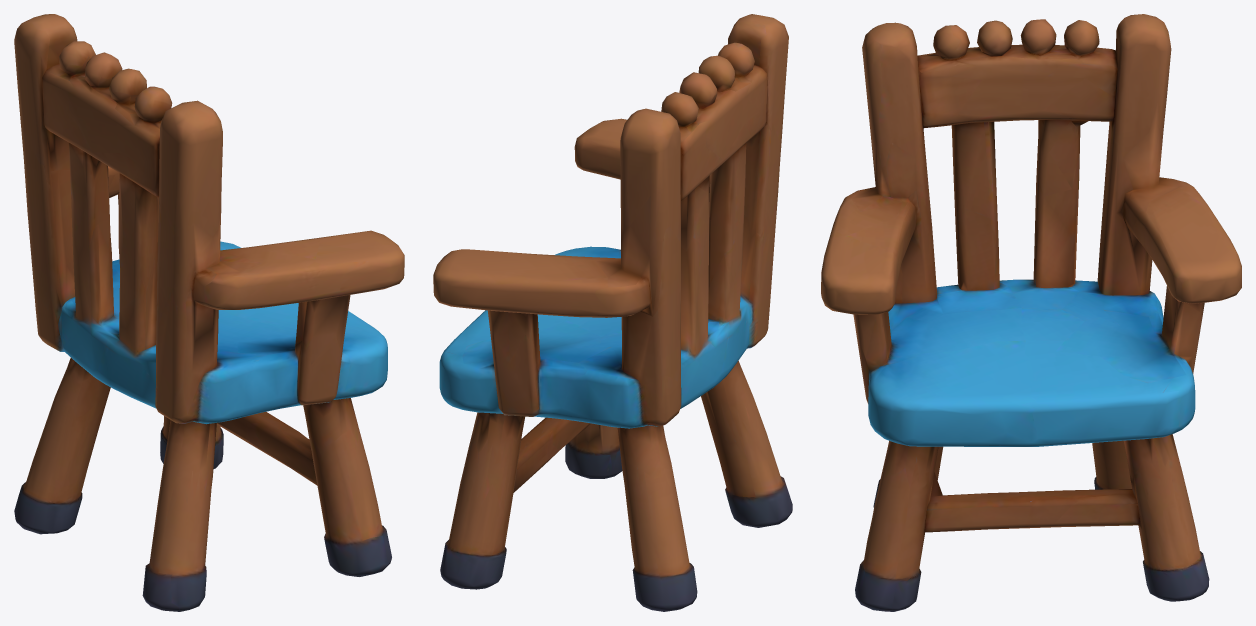
File: school_chair.glb
3 views of the same model, side by side, from view 1: azimuth 30°, elevation 25°; view 2: azimuth 150°, elevation 25°; view 3: azimuth 270°, elevation 25° (orthographic).
Visible parts, largest first — view 1: tripo_node_04418baa-968a-4ffd-8fe6-93ee14d49f75; view 2: tripo_node_04418baa-968a-4ffd-8fe6-93ee14d49f75; view 3: tripo_node_04418baa-968a-4ffd-8fe6-93ee14d49f75.
Part boxes in pixels (bbox=[...]): tripo_node_04418baa-968a-4ffd-8fe6-93ee14d49f75: bbox=[14, 14, 404, 611]; tripo_node_04418baa-968a-4ffd-8fe6-93ee14d49f75: bbox=[433, 14, 792, 611]; tripo_node_04418baa-968a-4ffd-8fe6-93ee14d49f75: bbox=[821, 14, 1241, 611].
Size of the model in its own units: 0.4019 by 0.75 by 0.5755.
1 material, 1 textured.
